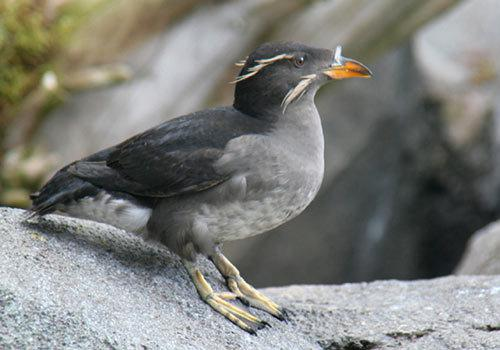008.Rhinoceros_Auklet: (27, 41, 372, 337)
